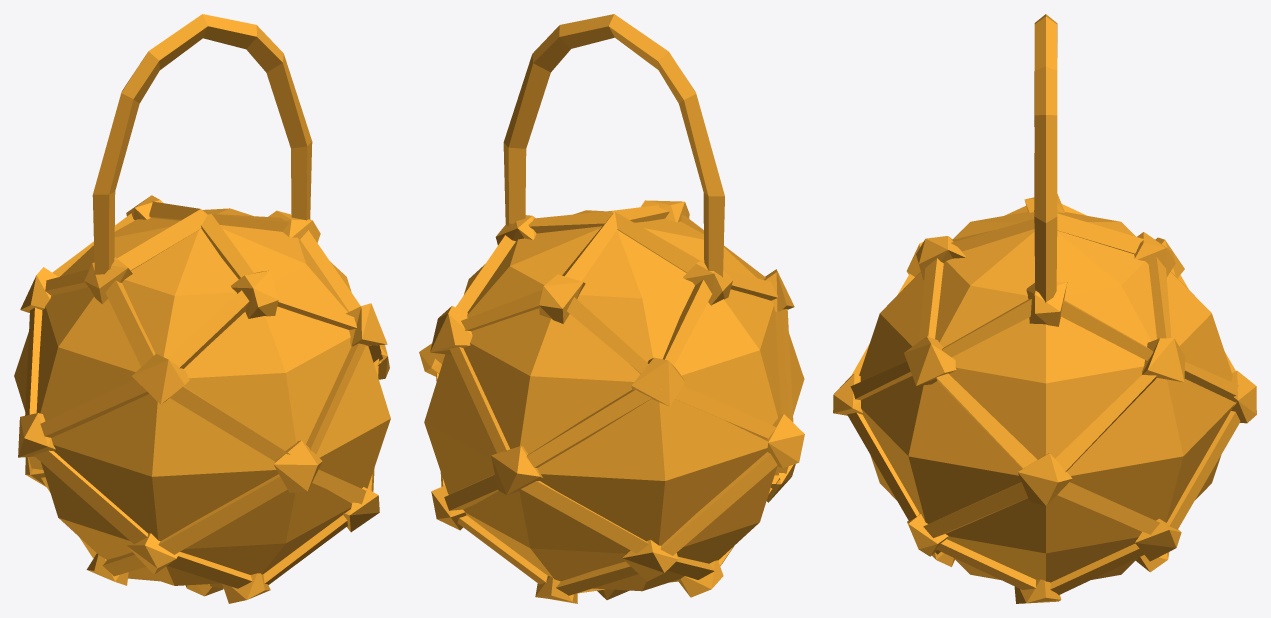
The model's file is SM_Lantern_Potion_Fantasy.fbx.
3 views of the same model, side by side, from view 1: azimuth 30°, elevation 25°; view 2: azimuth 150°, elevation 25°; view 3: azimuth 270°, elevation 25° (orthographic).
Parts seen in each view (by area): view 1: lantern-potion-fantasy; view 2: lantern-potion-fantasy; view 3: lantern-potion-fantasy.
Boxes of the visible parts, x1,y1,x2,y2 form: lantern-potion-fantasy: (14,14,390,603); lantern-potion-fantasy: (419,14,804,603); lantern-potion-fantasy: (833,14,1256,603).
Bounding box in the file's own units: 0.3727 × 0.551 × 0.3694.
